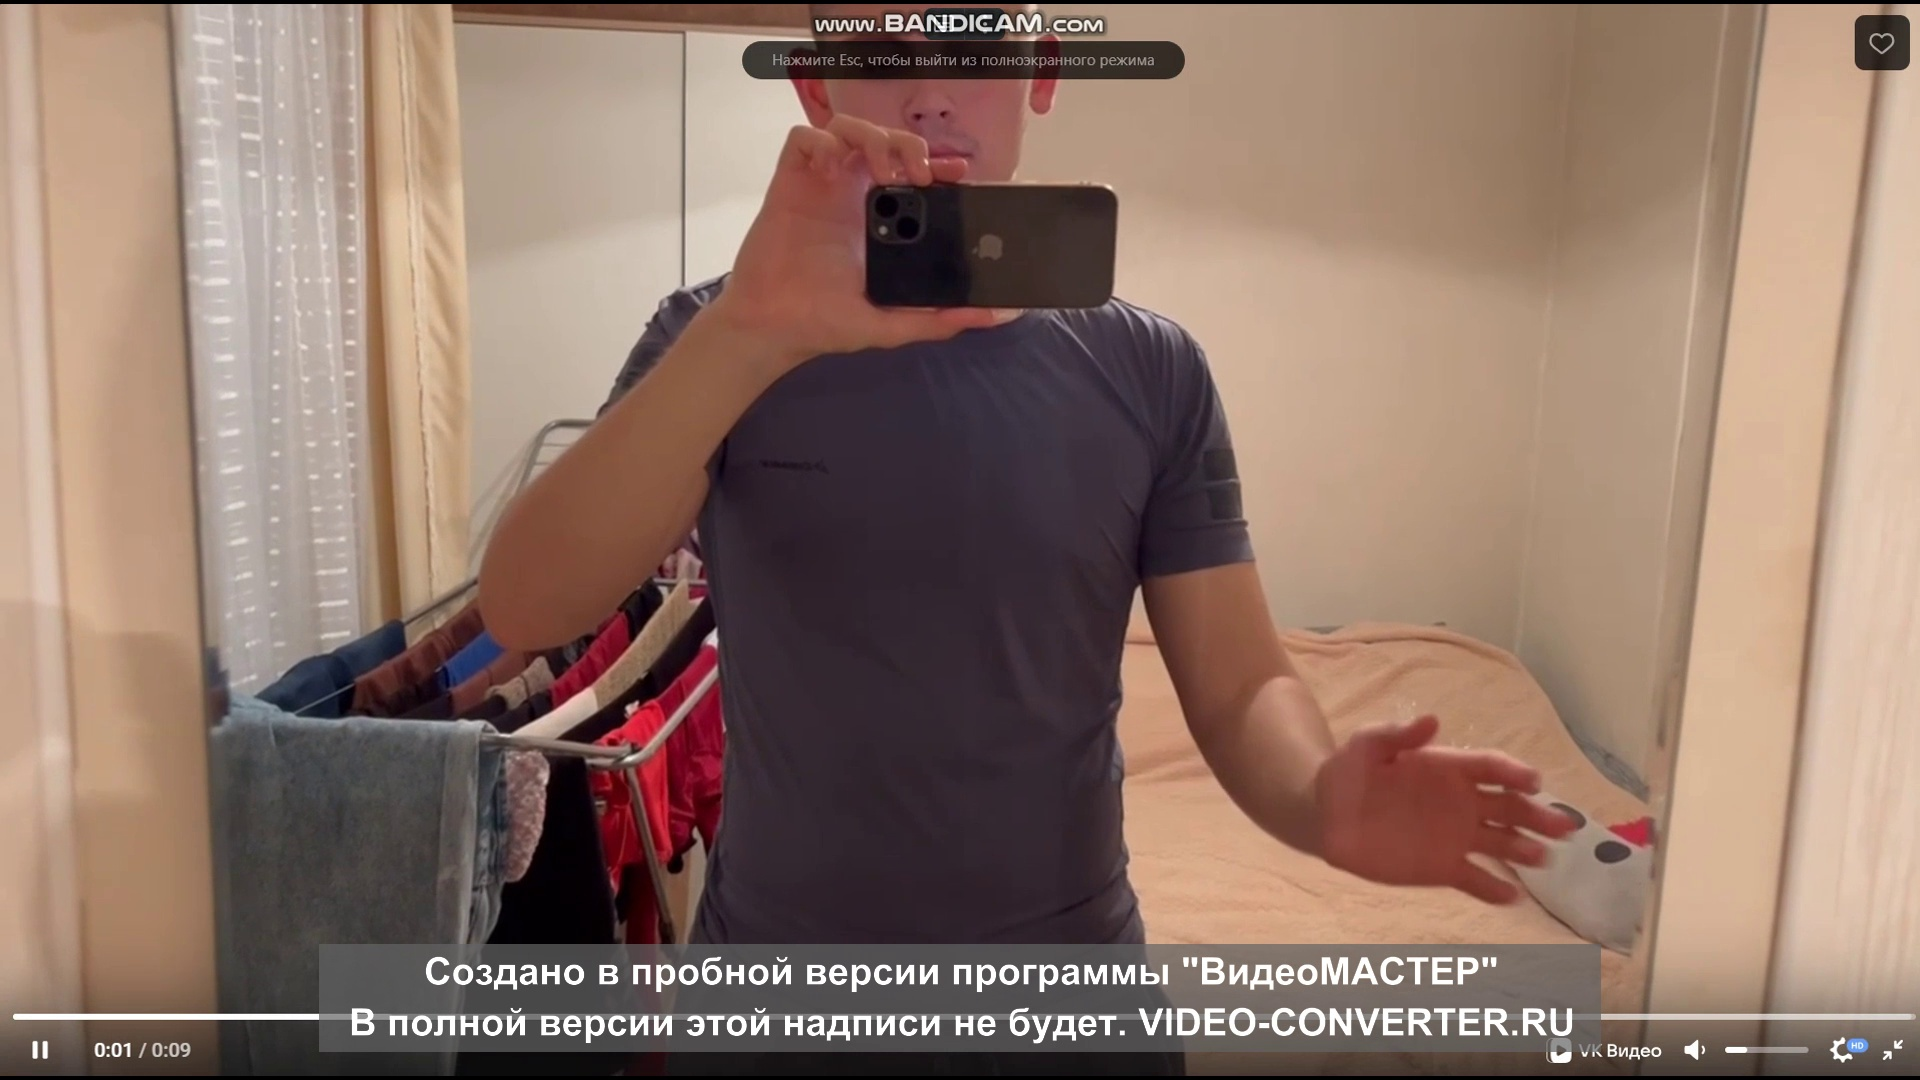Ладонь: (1317, 713, 1577, 909)
